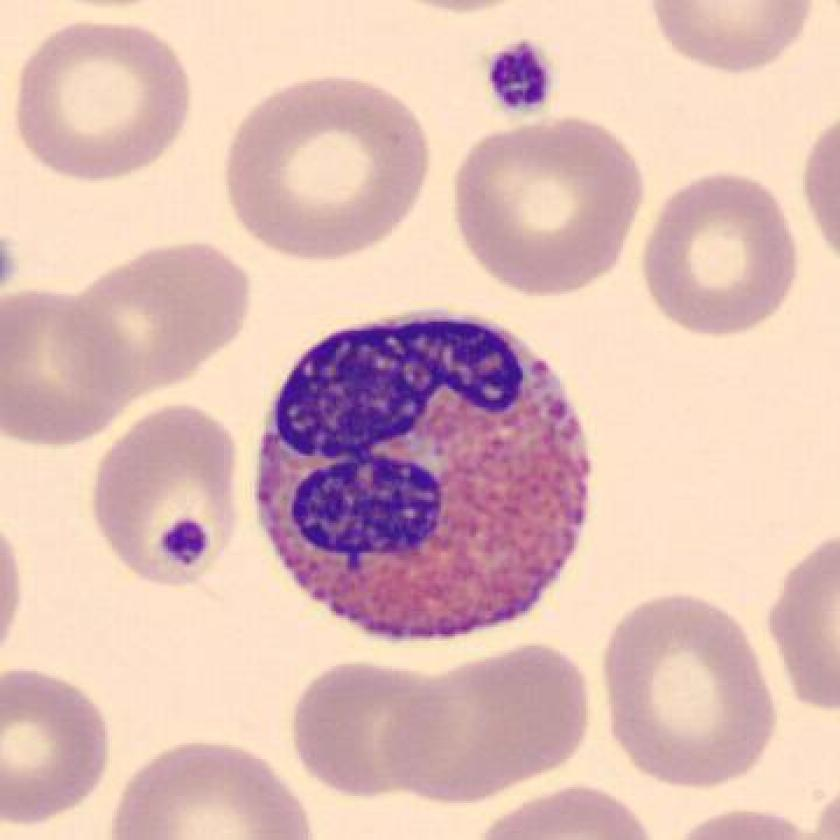eosinophil: (241, 295, 608, 653)
